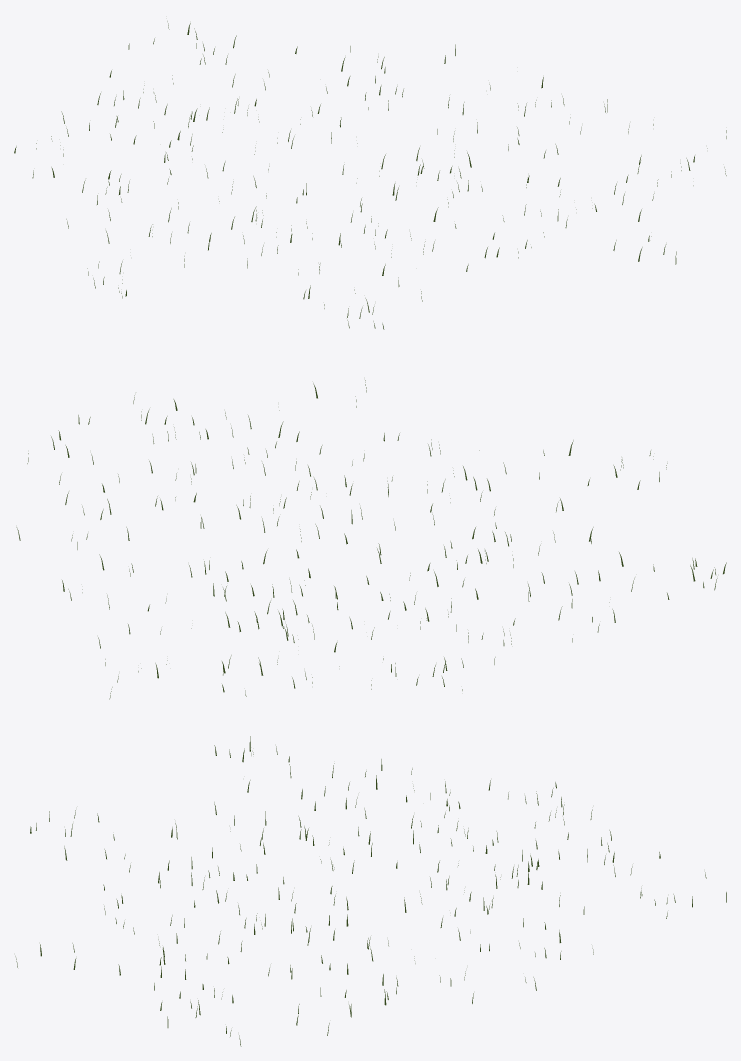
The picture shows the model from 3 angles, top to bottom: view 1: azimuth 30°, elevation 25°; view 2: azimuth 150°, elevation 25°; view 3: azimuth 270°, elevation 25°; orthographic projection. The views are drawn at different scales.
Parts seen in each view (by area): view 1: GrassPatch; view 2: GrassPatch; view 3: GrassPatch.
Part boxes in pixels (x1,y1,x2,y2): GrassPatch: (14, 21, 726, 329); GrassPatch: (16, 380, 726, 699); GrassPatch: (15, 736, 726, 1046).
Size of the model in its own units: 18.67 by 0.4916 by 18.95.
